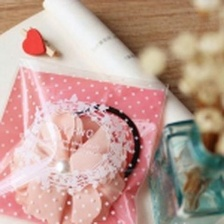snack: (0, 50, 175, 224)
